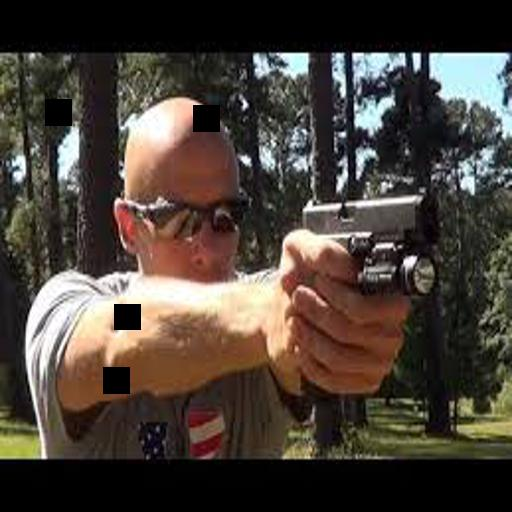Handgun: (297, 186, 439, 410)
